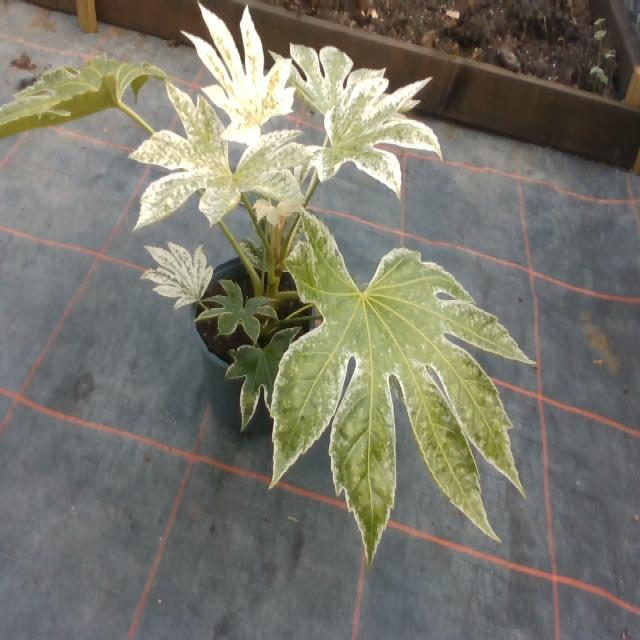Fatsia-japonica: (269, 195, 530, 557), (136, 86, 302, 226), (160, 6, 294, 125), (0, 49, 156, 142), (303, 81, 432, 193), (270, 33, 386, 121), (220, 324, 302, 429), (143, 230, 208, 318), (203, 267, 267, 341)
